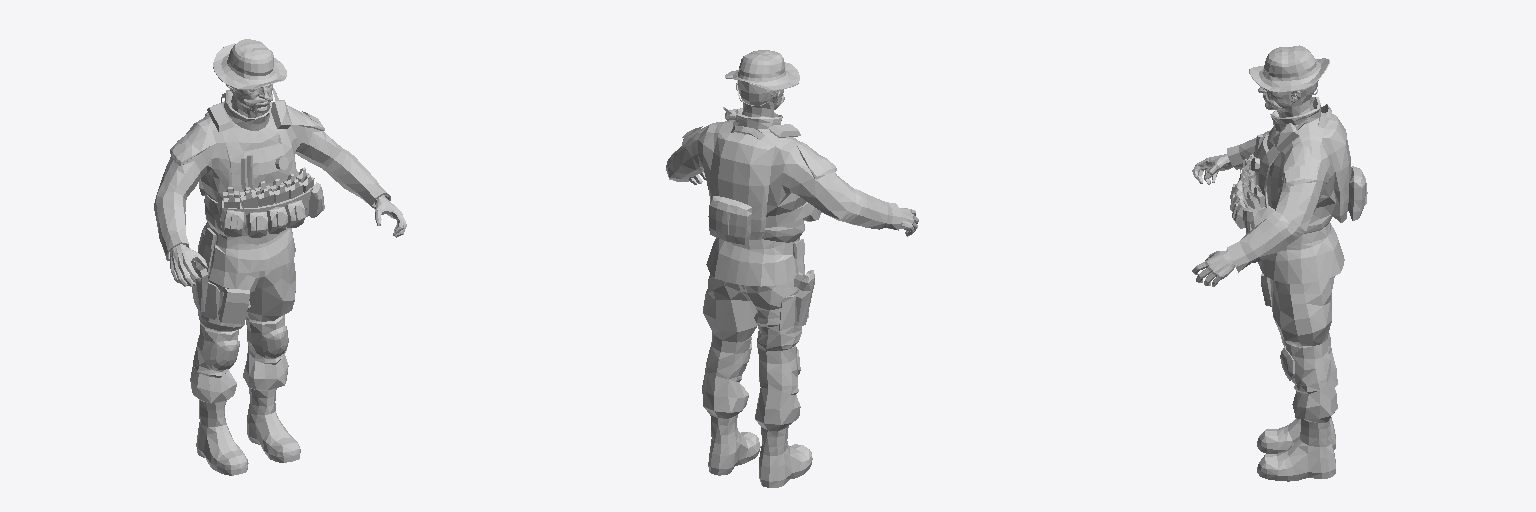
The model's file is Price.obj.
3 renders of one model, left to right at view 1: azimuth 30°, elevation 25°; view 2: azimuth 150°, elevation 25°; view 3: azimuth 270°, elevation 25°, orthographic.
Parts seen in each view (by area): view 1: price_model; view 2: price_model; view 3: price_model.
Part boxes in pixels (x1,y1,x2,y2): price_model: (154,39,406,475); price_model: (666,50,918,487); price_model: (1192,45,1367,481).
Size of the model in its own units: 1.14 by 1.96 by 0.7547.